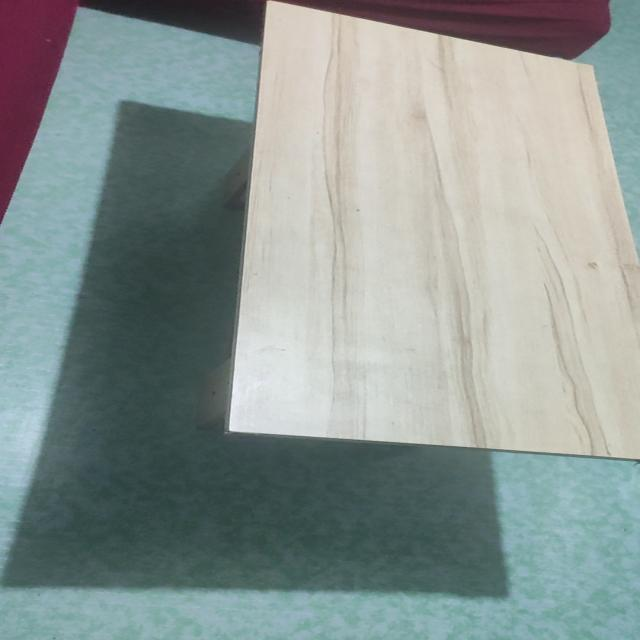table: (198, 0, 640, 488)
